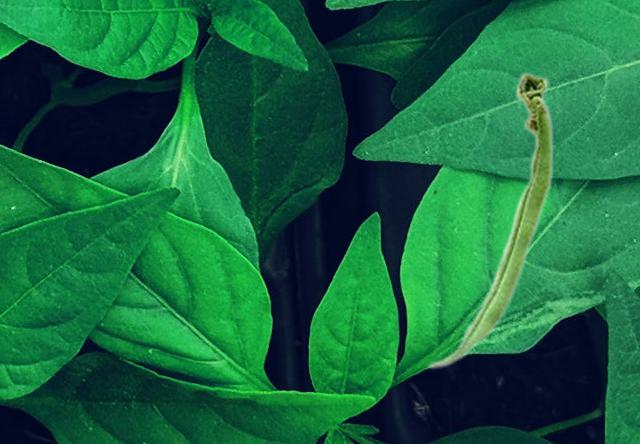french_bean: (426, 70, 553, 369)
